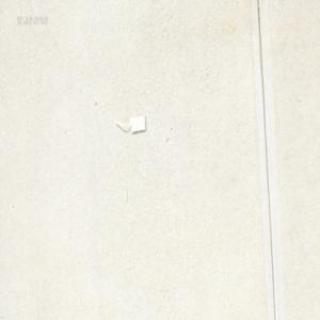LuggageTagtrack_idkeyframe: (113, 114, 145, 132)
